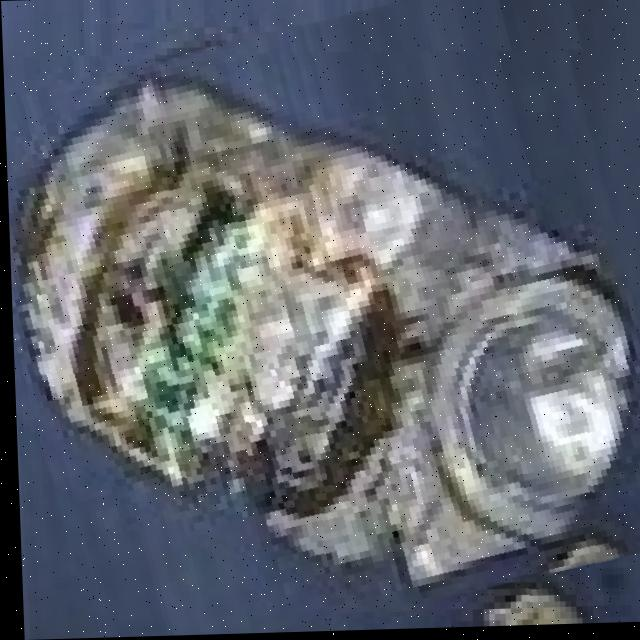can: (6, 52, 640, 614)
